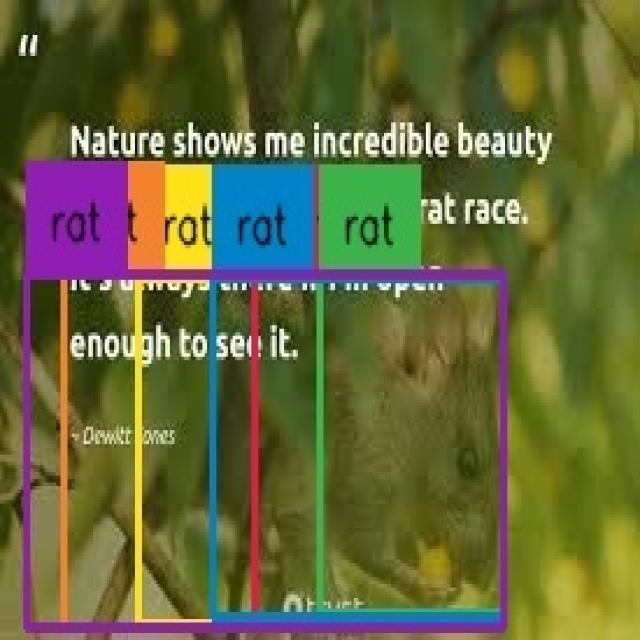rat: (27, 274, 504, 628), (64, 276, 504, 626), (138, 276, 504, 626), (213, 278, 504, 617), (255, 278, 504, 617), (320, 278, 504, 614)
